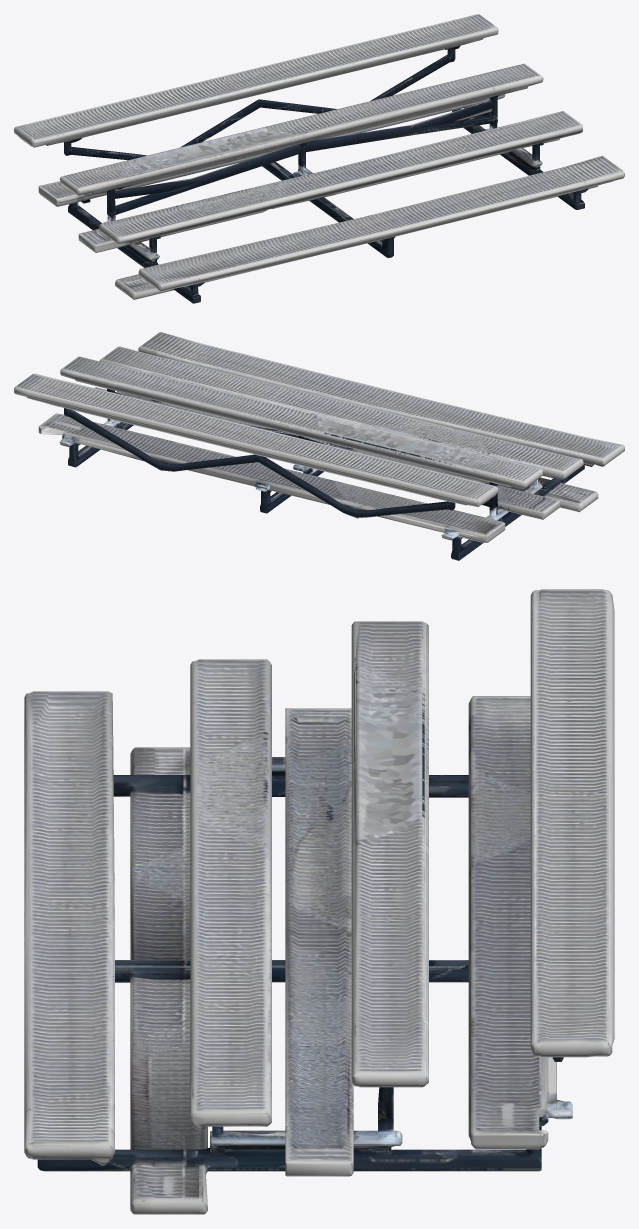
File: bleachers_unfurled_0127182141_texture.glb
3 views of the same model, one above another, from view 1: azimuth 30°, elevation 25°; view 2: azimuth 150°, elevation 25°; view 3: azimuth 270°, elevation 25° (orthographic). The views are drawn at different scales.
Parts seen in each view (by area): view 1: Mesh_0; view 2: Mesh_0; view 3: Mesh_0.
Boxes of the visible parts, <box> form: Mesh_0: <box>14,14,624,303</box>; Mesh_0: <box>14,332,624,560</box>; Mesh_0: <box>24,589,614,1214</box>.
Bounding box in the file's own units: 7.68 × 1.37 × 4.21.
Materials: 1 (1 with a texture image).
